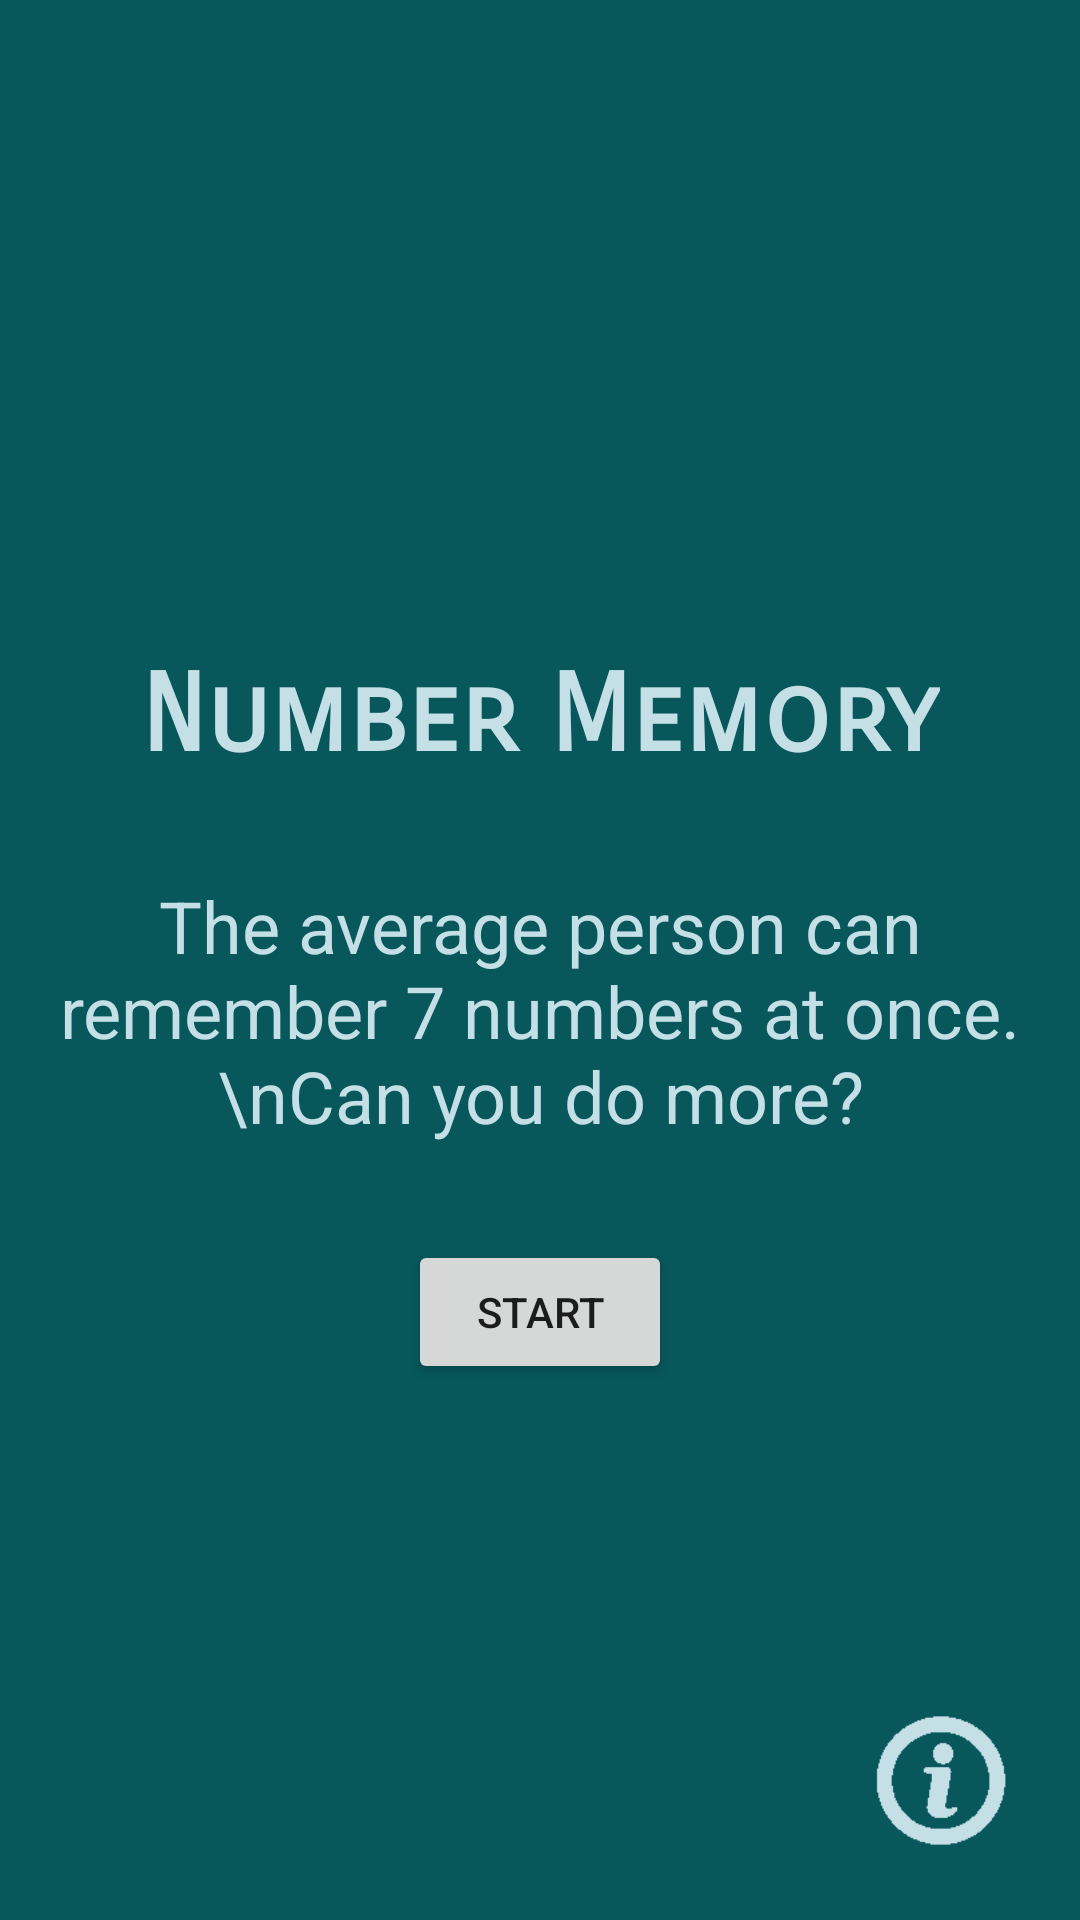

Screen size 1080x1920. Icon name, then its center in pixels as (x=x, y=y):
info: (x=941, y=1780)
